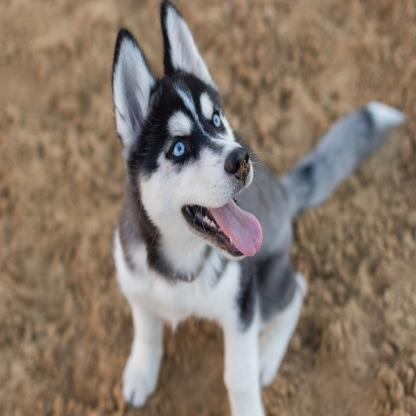dog: (107, 2, 406, 416)
